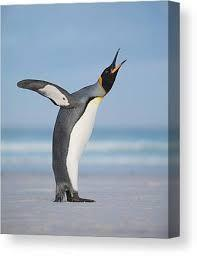king: (6, 46, 140, 220)
